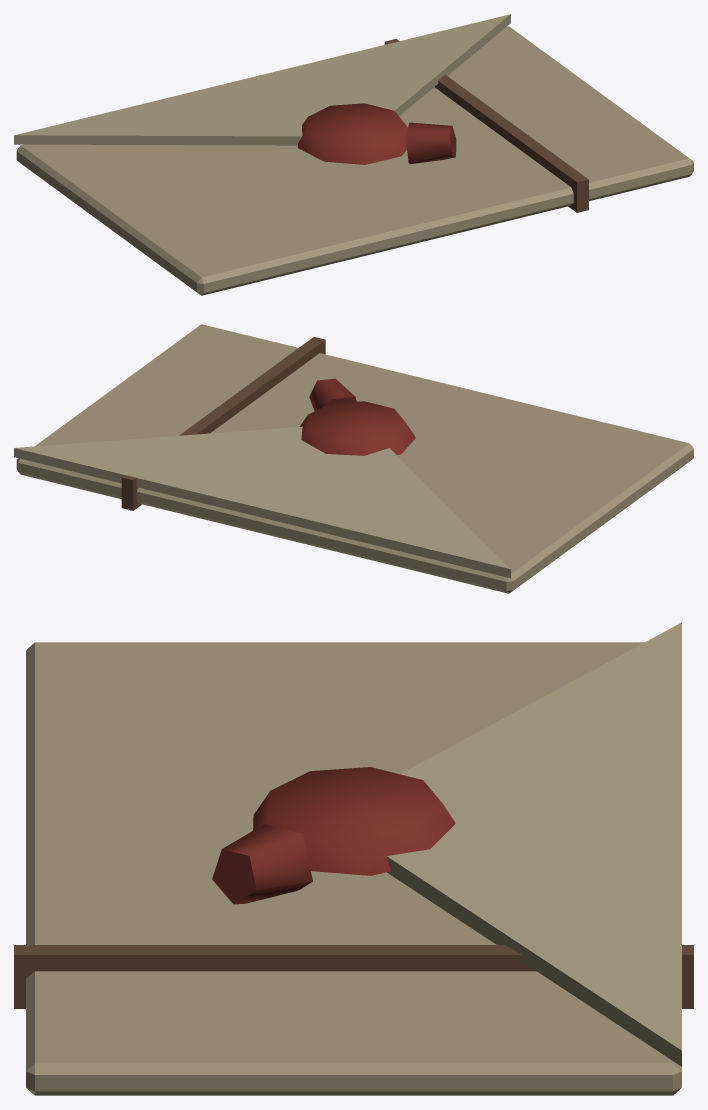
Rendered from recado.glb.
3 renders of one model, top to bottom at view 1: azimuth 30°, elevation 25°; view 2: azimuth 150°, elevation 25°; view 3: azimuth 270°, elevation 25°, orthographic. The views are drawn at different scales.
Visible parts, largest first — view 1: Recado; view 2: Recado; view 3: Recado.
Part boxes in pixels (left/top/right/bottom): Recado: left=14, top=14, right=693, bottom=295; Recado: left=14, top=324, right=693, bottom=593; Recado: left=14, top=622, right=693, bottom=1095.
Size of the model in its own units: 0.17 by 0.0172 by 0.114.
